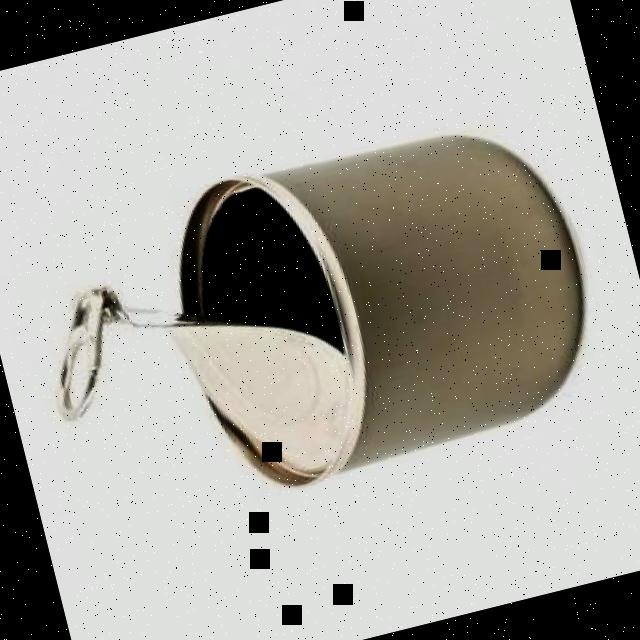can: (9, 102, 618, 548)
